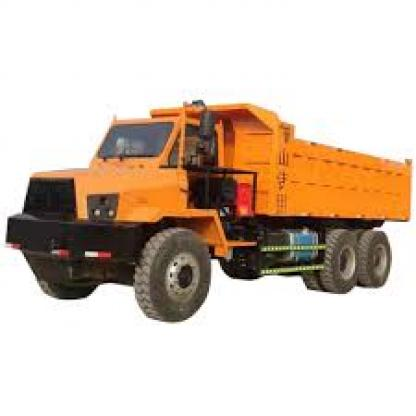dump_truck: (2, 79, 410, 333)
